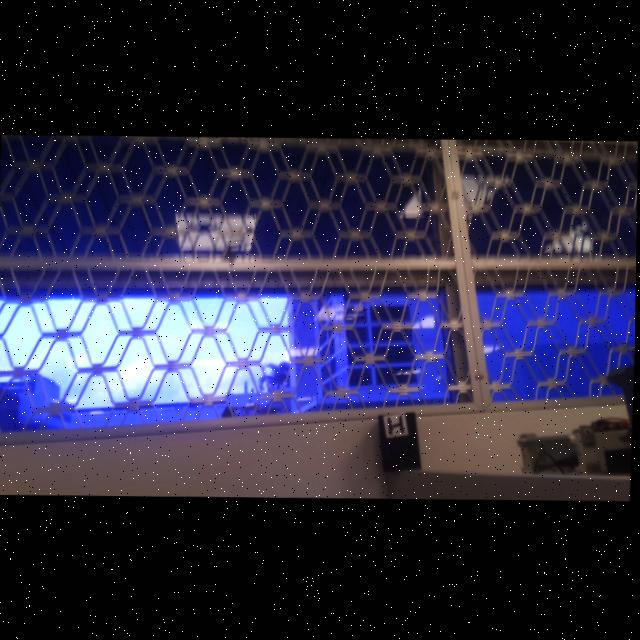H: (388, 416, 405, 435)
